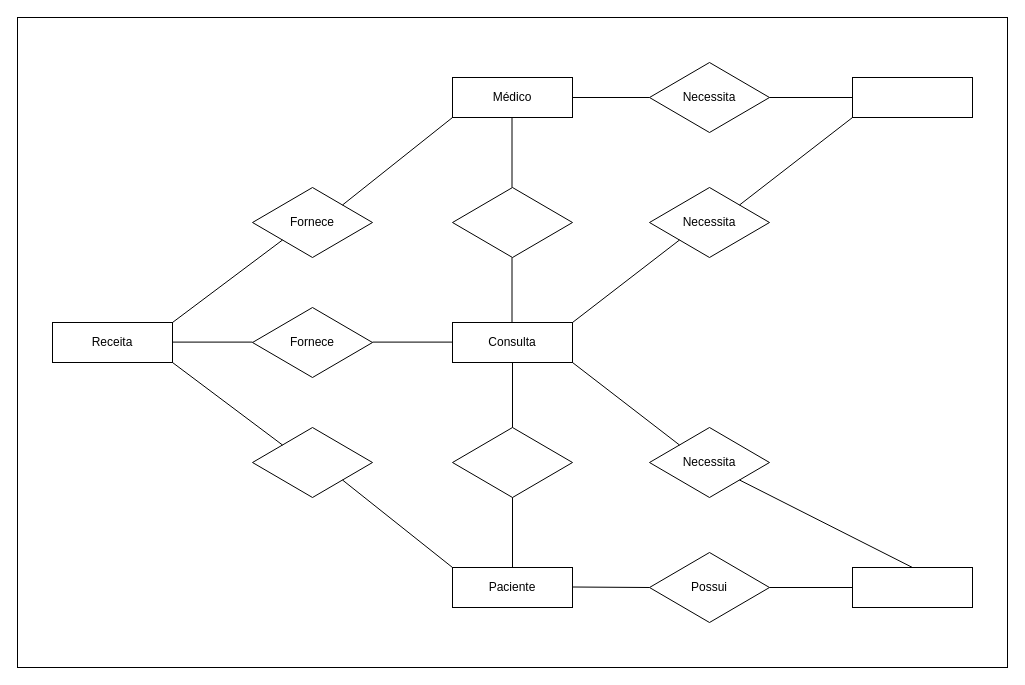
This 1025x685 diagram has some shape labels left out. The centre of each missing label's shape, as x and y in pixels:
Atende: the point at 512,222
Convênio: the point at 912,587
Especialização: the point at 912,97
Procura: the point at 512,462
Recebe: the point at 312,462
